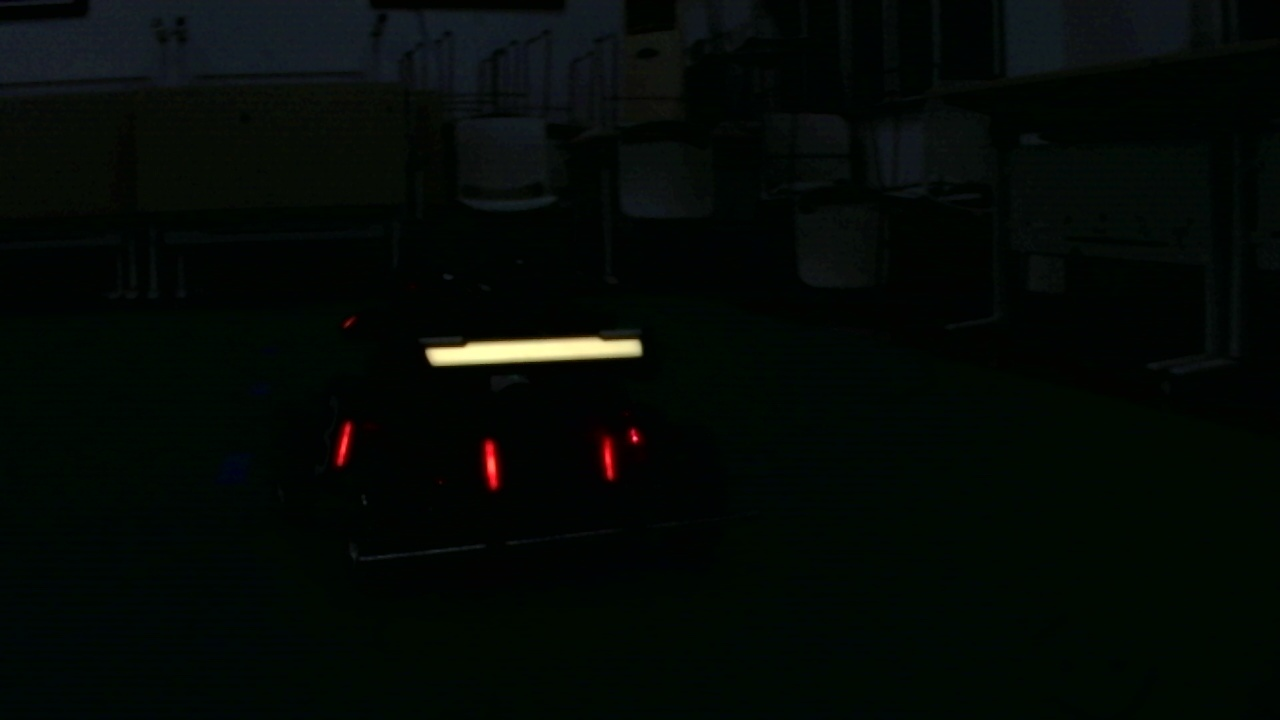lamp: (330, 414, 355, 467), (482, 435, 506, 489), (603, 433, 617, 483)
notpair1: (332, 419, 505, 490)
pair1: (483, 437, 617, 494)
